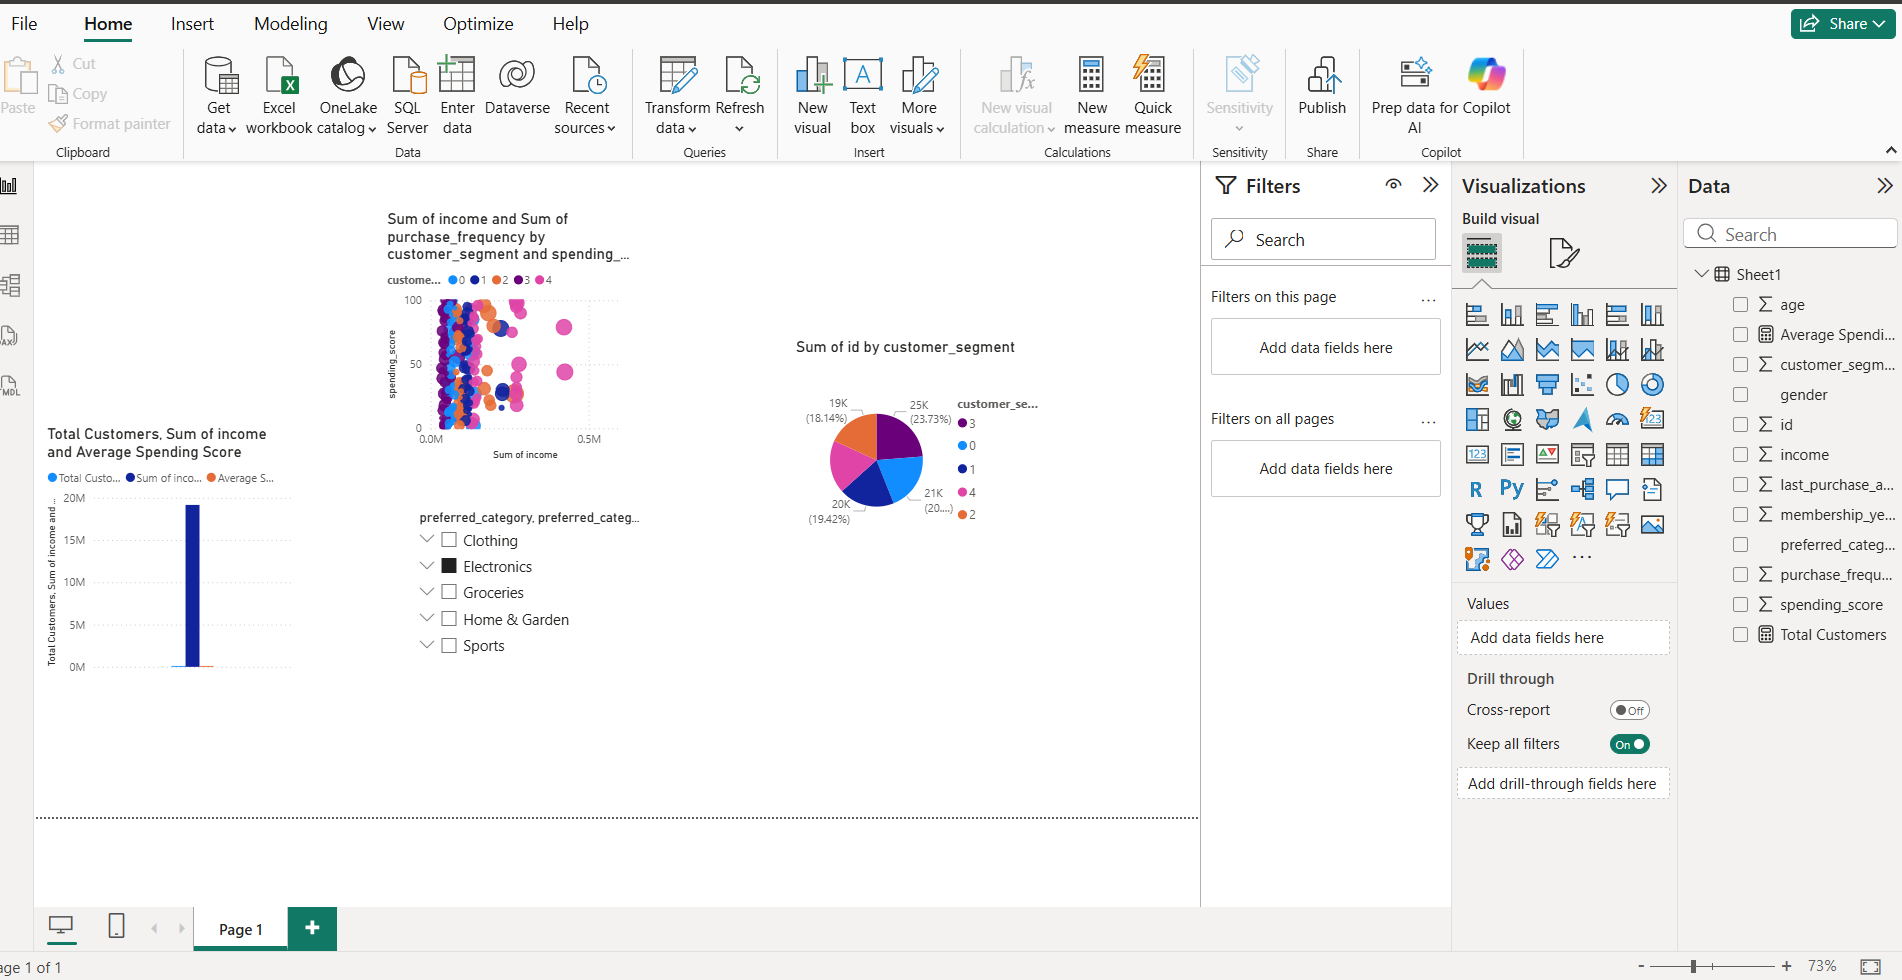

What the dashboard file says about the page in this screenshot:
{"tool":"powerbi","page":{"name":"Page 1","canvas":[1280,720],"ordinal":0},"visuals":[{"type":"clusteredColumnChart","fields":{"Y":["Sheet1.Total Customers","Sum(Sheet1.income)","Sheet1.Average Spending Score"]},"box":[10,290,280,280],"z":0},{"type":"scatterChart","fields":{"X":["Sum(Sheet1.income)"],"Y":["Sheet1.spending_score"],"Series":["Sheet1.customer_segment"],"Size":["Sum(Sheet1.purchase_frequency)"]},"box":[382.8,53.5,279.9,279.9],"z":1000},{"type":"pieChart","fields":{"Category":["Sheet1.customer_segment"],"Y":["Sum(Sheet1.id)"]},"box":[831.6,193.5,279.9,251.1],"z":2000},{"type":"slicer","fields":{"Values":["Sheet1.preferred_category","Sheet1.preferred_category","Sheet1.gender","Sheet1.customer_segment"]},"box":[410.3,377.4,279.9,251.1],"z":2001}]}

Visuals, with their boxes on the page's 1280x720 design canvas (x1, y1, x2, y2). These are canvas units, not pixel positions in the 1902x980 screenshot, which may show the page scaled, cropped or inside an application window:
clusteredColumnChart - Sheet1.Total Customers x Sum(Sheet1.income): 10:290:290:570
scatterChart - Sum(Sheet1.income) x Sheet1.spending_score: 383:54:663:333
pieChart - Sheet1.customer_segment x Sum(Sheet1.id): 832:194:1112:445
slicer - Sheet1.preferred_category x Sheet1.preferred_category: 410:377:690:628
